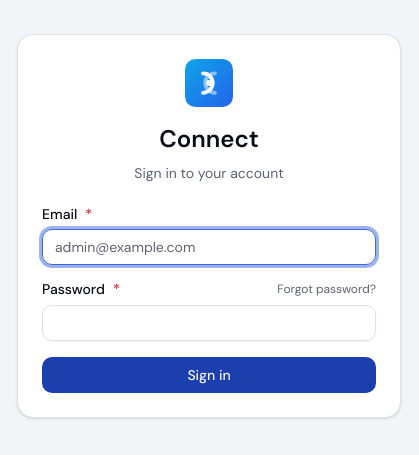
Test: LoginPage › shows error message on failed login
Type "bad@test.com" into the field labelled "Email" at (209, 247), box [42,229,376,265]
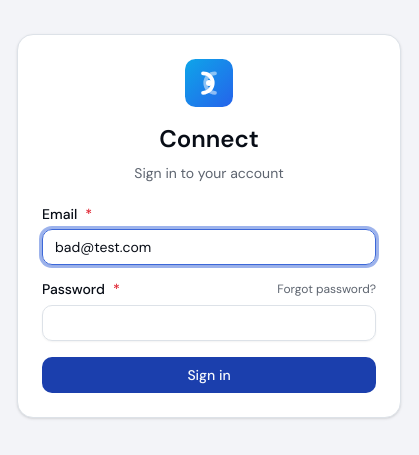
Type "wrongpassword" into the password field labelled "Password" at (209, 323), box [42,305,376,341]
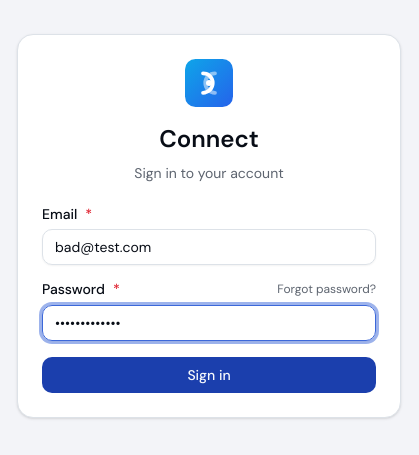
Click the button "Sign in" at (209, 375), box [42,357,376,393]
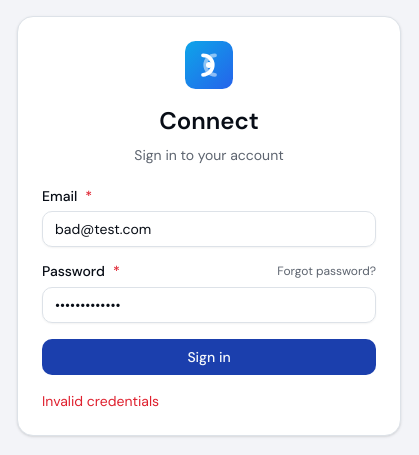
Now the text "Invalid credentials" is shown, box [42,392,159,410]
